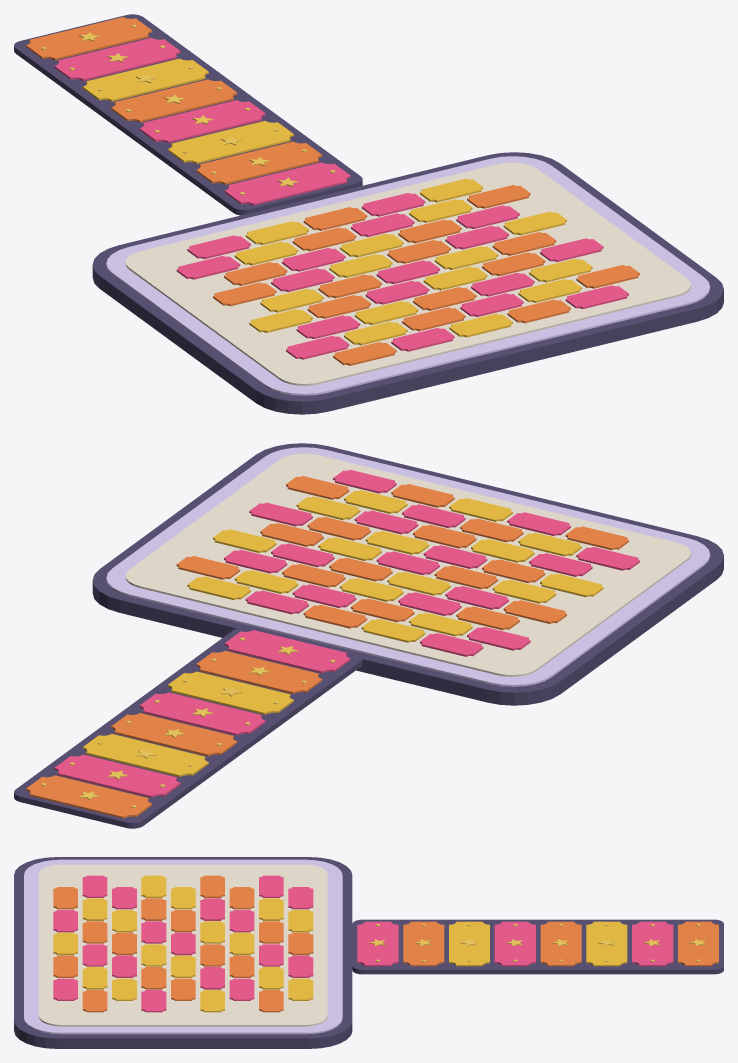
Rendered from ArcadeTicketFloor.obj.
3 renders of one model, top to bottom at view 1: azimuth 30°, elevation 25°; view 2: azimuth 150°, elevation 25°; view 3: azimuth 270°, elevation 25°, orthographic. The views are drawn at different scales.
Visible parts, largest first — view 1: Grout, Rim, TicketB, TicketA, TicketC, Band, Stars; view 2: Grout, TicketB, Rim, TicketA, TicketC, Band, Stars; view 3: Grout, Rim, TicketB, TicketA, TicketC, Band, Stars.
Part boxes in pixels (x1=…): Grout: x1=125, y1=162, x2=690, y2=385; Rim: x1=14, y1=14, x2=723, y2=414; TicketB: x1=54, y1=37, x2=628, y2=359; TicketA: x1=26, y1=17, x2=639, y2=365; TicketC: x1=82, y1=58, x2=592, y2=345; Band: x1=106, y1=156, x2=710, y2=395; Stars: x1=41, y1=24, x2=335, y2=194; Grout: x1=125, y1=453, x2=690, y2=676; TicketB: x1=54, y1=469, x2=639, y2=797; Rim: x1=14, y1=443, x2=723, y2=828; TicketA: x1=26, y1=476, x2=628, y2=818; TicketC: x1=82, y1=490, x2=603, y2=776; Band: x1=106, y1=447, x2=710, y2=686; Stars: x1=41, y1=637, x2=335, y2=807; Grout: x1=38, y1=864, x2=327, y2=1026; Rim: x1=14, y1=857, x2=723, y2=1048; TicketB: x1=53, y1=875, x2=673, y2=1012; TicketA: x1=53, y1=875, x2=718, y2=1012; TicketC: x1=53, y1=875, x2=627, y2=1012; Band: x1=24, y1=859, x2=342, y2=1034; Stars: x1=369, y1=924, x2=705, y2=961.
Size of the model in its own units: 26 by 1.05 by 43.
